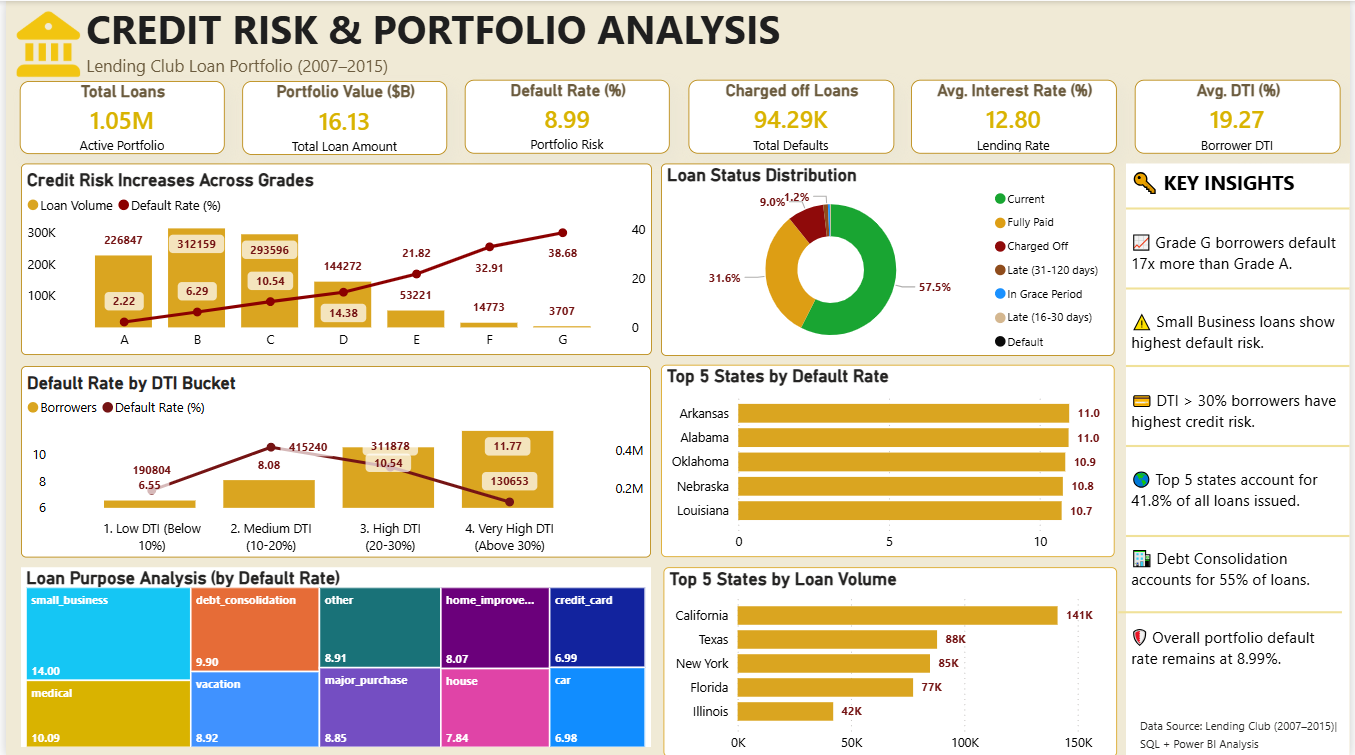

This screenshot's page, from the dashboard's own definition file:
{"tool":"powerbi","page":{"name":"Page 1","canvas":[1280,720],"ordinal":0},"visuals":[{"type":"textbox","box":[70.8,0,1209.2,74.4],"z":0},{"type":"cardVisual","title":"Total Loans","fields":{"Data":["Sum(kpi_summary.total_loans)"]},"box":[13.1,76,195.2,69.5],"z":0,"group":"g1"},{"type":"image","box":[0,0,81,86.9],"z":1000},{"type":"cardVisual","title":"Portfolio Value ($B)","fields":{"Data":["Min(kpi_summary.portfolio_value)"]},"box":[225,76,195.2,70.5],"z":1000,"group":"g1"},{"type":"group","id":"g1","title":"Group 1","box":[13.1,75,1257.1,71.4],"z":2000},{"type":"cardVisual","title":"Default Rate (%)","fields":{"Data":["Min(kpi_summary.default_rate)"]},"box":[436.9,75,195.2,70.5],"z":2000,"group":"g1"},{"type":"cardVisual","title":"Charged off Loans","fields":{"Data":["Min(kpi_summary.charged_off)"]},"box":[649.5,75,195.7,70.6],"z":3000,"group":"g1"},{"type":"lineClusteredColumnComboChart","title":"Credit Risk Increases Across Grades","fields":{"Category":["grade_analysis.grade"],"Y":["Sum(grade_analysis.total_loans)"],"Y2":["Sum(grade_analysis.default_rate)"]},"box":[13.7,155.1,601,182.5],"z":3000},{"type":"cardVisual","title":"Avg. Interest Rate (%)","fields":{"Data":["Min(kpi_summary.avg_interest_rate)"]},"box":[862,75,195.7,70.6],"z":4000,"group":"g1"},{"type":"donutChart","title":"Loan Status Distribution","fields":{"Y":["Sum(loan_status.loan_count)"],"Category":["loan_status.loan_status"]},"box":[623.8,154.8,432.1,183.3],"z":4000},{"type":"cardVisual","title":"Avg. DTI (%)","fields":{"Data":["Min(kpi_summary.avg_dti)"]},"box":[1074.5,75,195.7,70.6],"z":5000,"group":"g1"},{"type":"lineClusteredColumnComboChart","title":"Default Rate by DTI Bucket","fields":{"Category":["dti_analysis.dti_bucket"],"Y":["Sum(dti_analysis.Default Rate (%))"],"Y2":["Sum(dti_analysis.borrowers)"]},"box":[13.7,347.2,599.7,182.5],"z":5000},{"type":"treemap","title":"Loan Purpose Analysis (by Default Rate)","fields":{"Group":["purpose_analysis.purpose"],"Values":["Sum(purpose_analysis.default_rate)"]},"box":[13.7,539.3,599.7,171.5],"z":6000},{"type":"clusteredBarChart","title":"Top 5 States by Default Rate","fields":{"Y":["Sum(state_analysis.default_rate)"],"Category":["state_analysis.Custom_STATE"]},"box":[624,347,432,183],"z":7000},{"type":"clusteredBarChart","title":"Top 5 States by Loan Volume","fields":{"Category":["state_analysis.Custom_STATE"],"Y":["Sum(state_analysis.total_loans)"]},"box":[625.7,539.3,432.2,181.1],"z":8000},{"type":"textbox","box":[1066.7,154.8,213.1,565.5],"z":9000},{"type":"textbox","box":[1075,675,204.8,45.2],"z":10000},{"type":"shape","box":[1066.7,123.8,213.1,300],"z":10001},{"type":"shape","box":[1066.7,273.8,213.1,300],"z":10002},{"type":"shape","box":[1066.7,359.5,213.1,300],"z":10003},{"type":"shape","box":[1059.5,497.6,213.1,169],"z":10004},{"type":"shape","box":[1066.7,197.6,213.1,300],"z":10005},{"type":"shape","box":[1066.7,98.8,213.1,197.6],"z":10006}]}

Visuals, with their boxes in screenshot pixels (x1, y1, x2, y2), scaled from the page's 1280x720 canvas onto the 1355x755 screenshot:
textbox: BBox(75, 0, 1354, 78)
"Total Loans" cardVisual: BBox(14, 80, 221, 153)
image: BBox(0, 0, 86, 91)
"Portfolio Value ($B)" cardVisual: BBox(238, 80, 445, 154)
"Group 1" group: BBox(14, 79, 1345, 154)
"Default Rate (%)" cardVisual: BBox(462, 79, 669, 153)
"Charged off Loans" cardVisual: BBox(688, 79, 895, 153)
"Credit Risk Increases Across Grades" lineClusteredColumnComboChart: BBox(15, 163, 651, 354)
"Avg. Interest Rate (%)" cardVisual: BBox(913, 79, 1120, 153)
"Loan Status Distribution" donutChart: BBox(660, 162, 1118, 355)
"Avg. DTI (%)" cardVisual: BBox(1137, 79, 1345, 153)
"Default Rate by DTI Bucket" lineClusteredColumnComboChart: BBox(15, 364, 649, 555)
"Loan Purpose Analysis (by Default Rate)" treemap: BBox(15, 566, 649, 745)
"Top 5 States by Default Rate" clusteredBarChart: BBox(661, 364, 1118, 556)
"Top 5 States by Loan Volume" clusteredBarChart: BBox(662, 566, 1120, 754)
textbox: BBox(1129, 162, 1354, 754)
textbox: BBox(1138, 708, 1354, 754)
shape: BBox(1129, 130, 1354, 444)
shape: BBox(1129, 287, 1354, 602)
shape: BBox(1129, 377, 1354, 692)
shape: BBox(1122, 522, 1347, 699)
shape: BBox(1129, 207, 1354, 522)
shape: BBox(1129, 104, 1354, 311)
